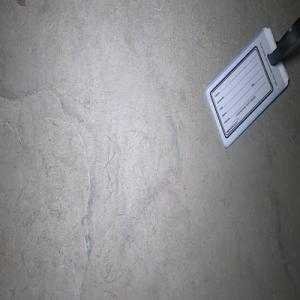LuggageTag: (203, 14, 300, 150)
